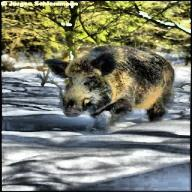boar: (45, 44, 175, 130)
